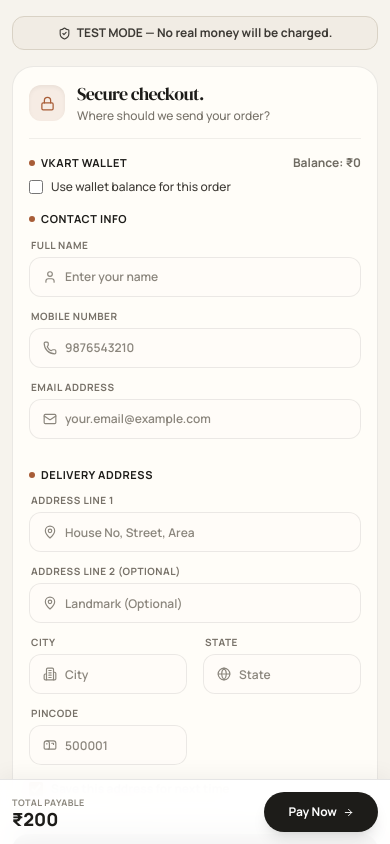
Scenario: CheckoutForm Component › blocks the review overlay and shows validation errors when required fields are empty
Click the button "Pay Now": (321, 812) 264,792 -> 378,832
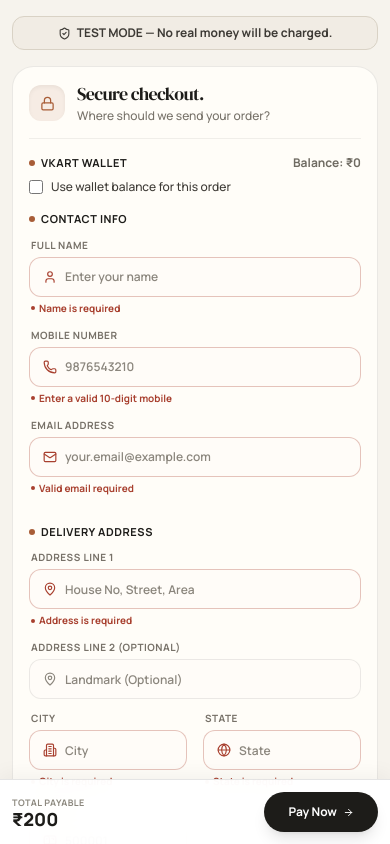
Check: the text "Name is required" is shown, box 31,300 -> 120,314
